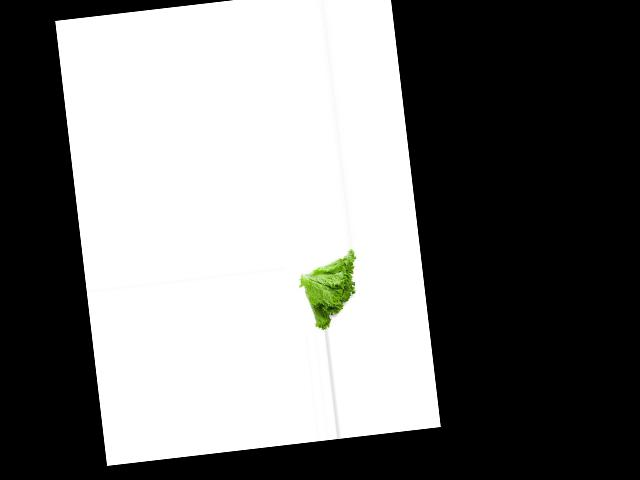lettuce: (297, 248, 365, 332)
